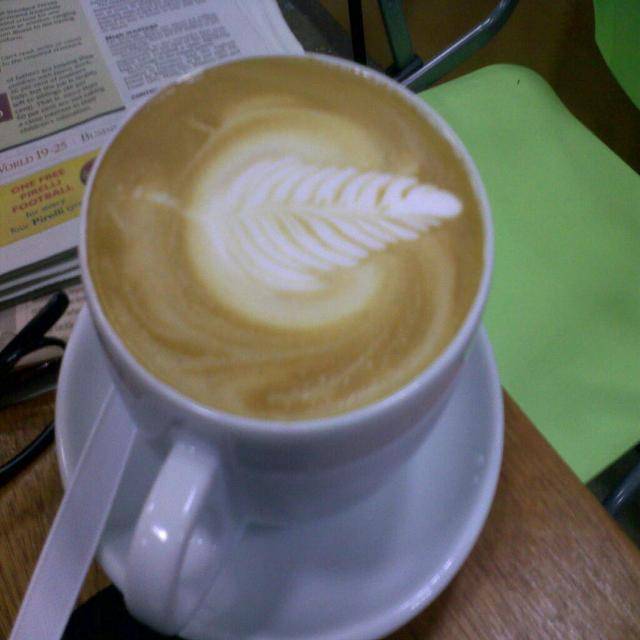Coffee: (72, 62, 514, 628)
